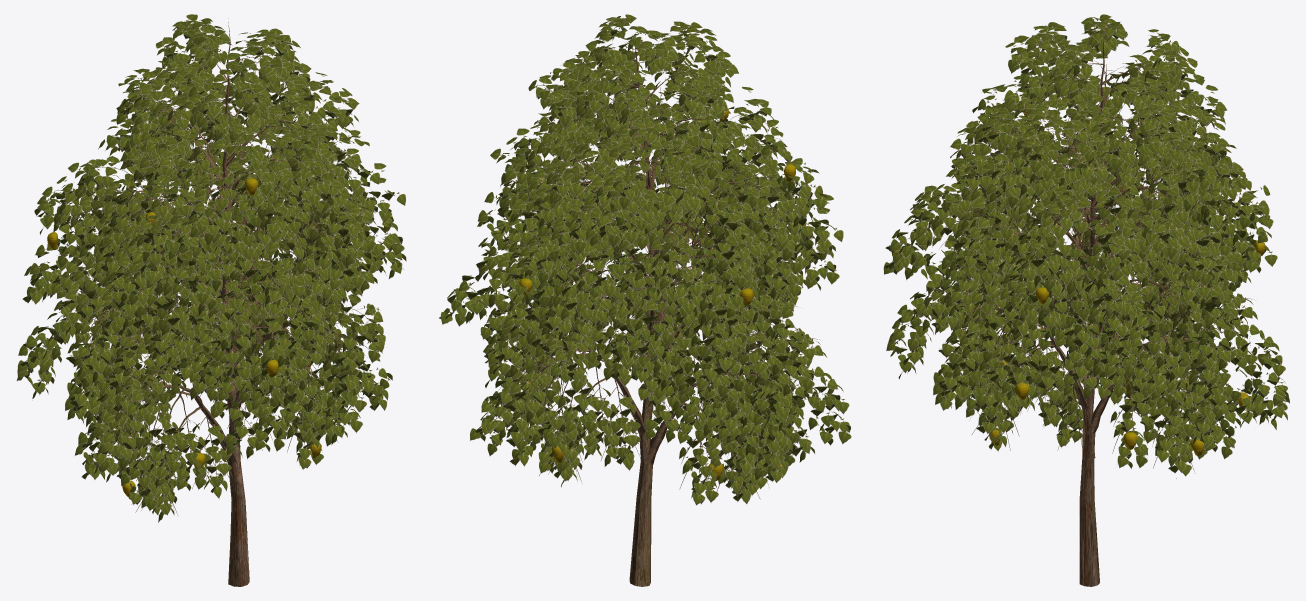
File: mangga_pohon.glb
The picture shows the model from 3 angles, left to right: view 1: azimuth 30°, elevation 25°; view 2: azimuth 150°, elevation 25°; view 3: azimuth 270°, elevation 25°; orthographic projection.
Parts seen in each view (by area): view 1: sub01, sub02; view 2: sub01, sub02; view 3: sub01, sub02.
Part boxes in pixels (x1=…): sub01: x1=34, y1=14, x2=406, y2=586; sub02: x1=16, y1=129, x2=392, y2=522; sub01: x1=477, y1=14, x2=843, y2=586; sub02: x1=439, y1=123, x2=851, y2=505; sub01: x1=910, y1=14, x2=1277, y2=586; sub02: x1=883, y1=119, x2=1289, y2=476.
Size of the model in its own units: 10.14 by 15.83 by 10.45.
19 materials, 19 textured.
